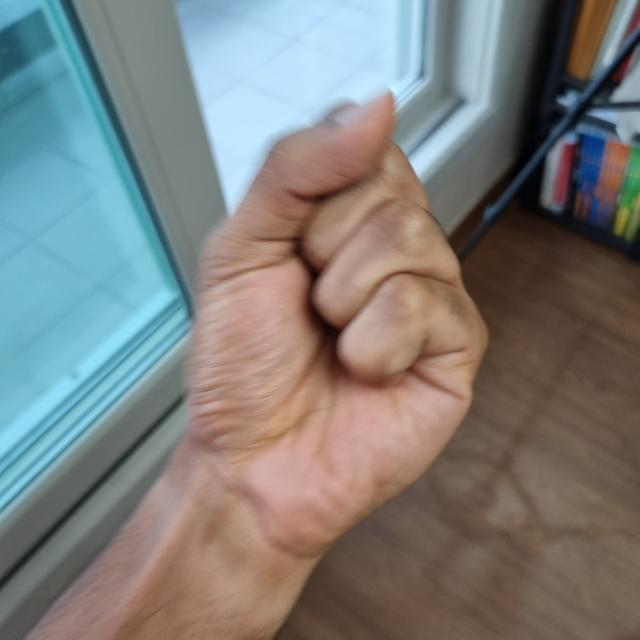Rock: (176, 91, 482, 563)
